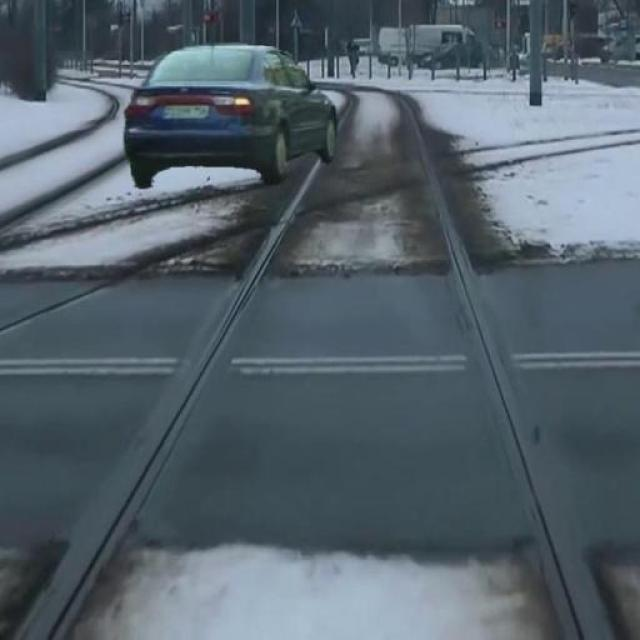vehicle: (125, 41, 346, 188)
